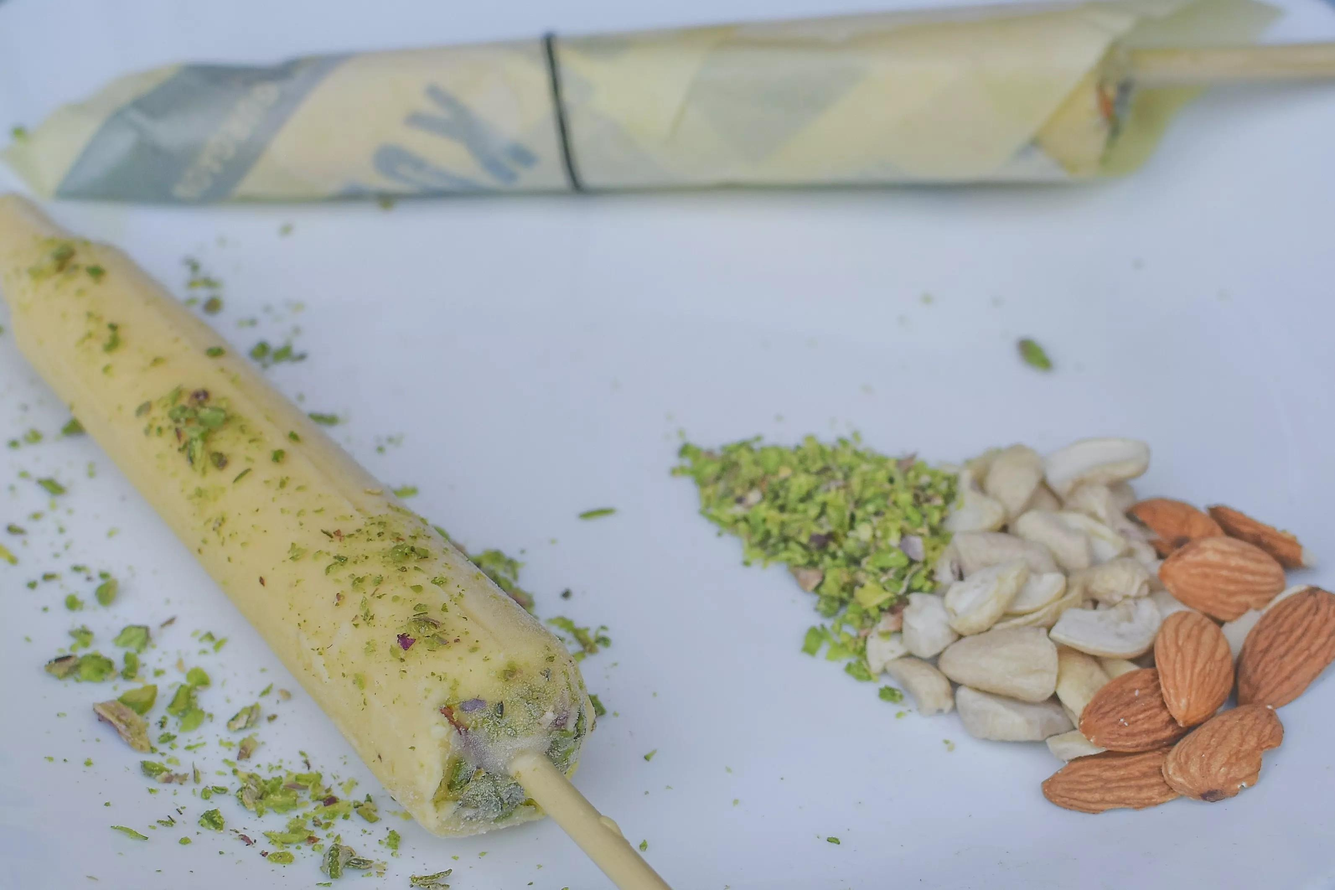Kulfi: (0, 187, 591, 835)
